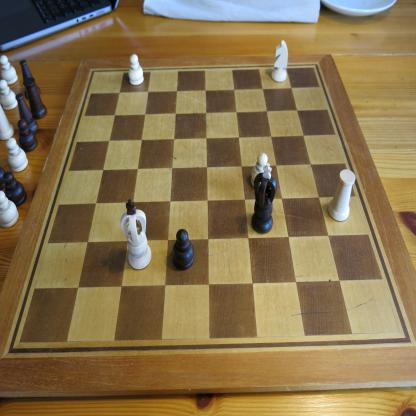black-bishop: (18, 60, 42, 96)
black-king: (248, 162, 278, 236)
black-pawn: (1, 171, 27, 207), (173, 226, 194, 270), (16, 118, 36, 154)
black-rook: (20, 74, 49, 121), (14, 91, 41, 136)
white-king: (118, 199, 153, 272)
white-knight: (270, 38, 290, 83)
white-pawn: (5, 138, 30, 174), (1, 189, 19, 231), (250, 152, 270, 188), (127, 52, 145, 87), (0, 52, 18, 85), (0, 79, 17, 112)
white-rook: (325, 168, 358, 224)
